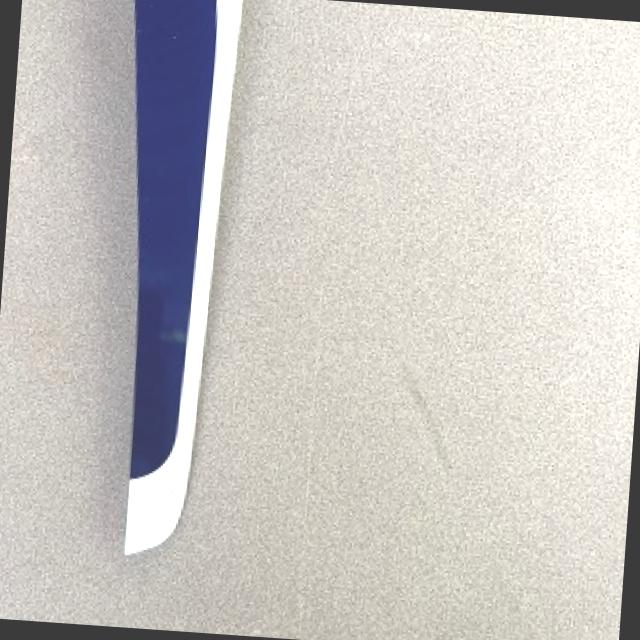healthy: (131, 0, 242, 551)
